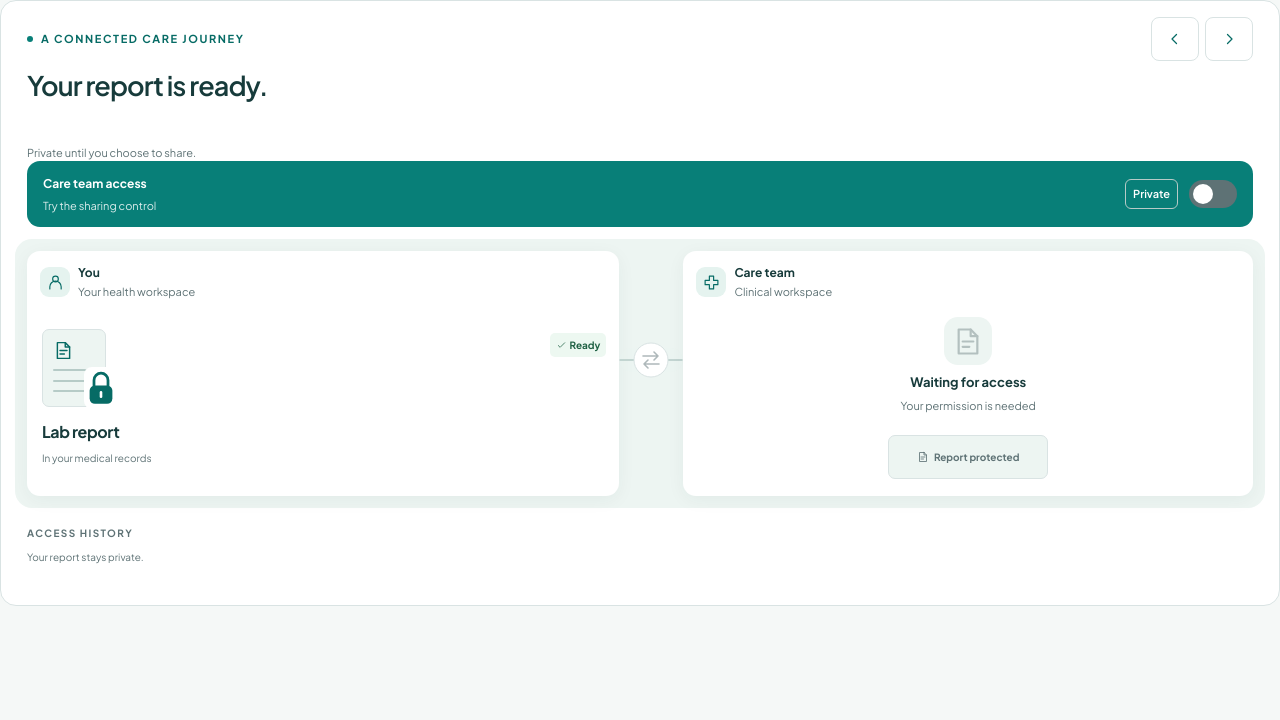
visitors can take control and revoke access before a report is viewed
The width and height of the screenshot is (1280, 720).
Click the switch named "Allow care team access".
click(1213, 194)  # box [1189,172,1237,216]
Wait 20000 ms
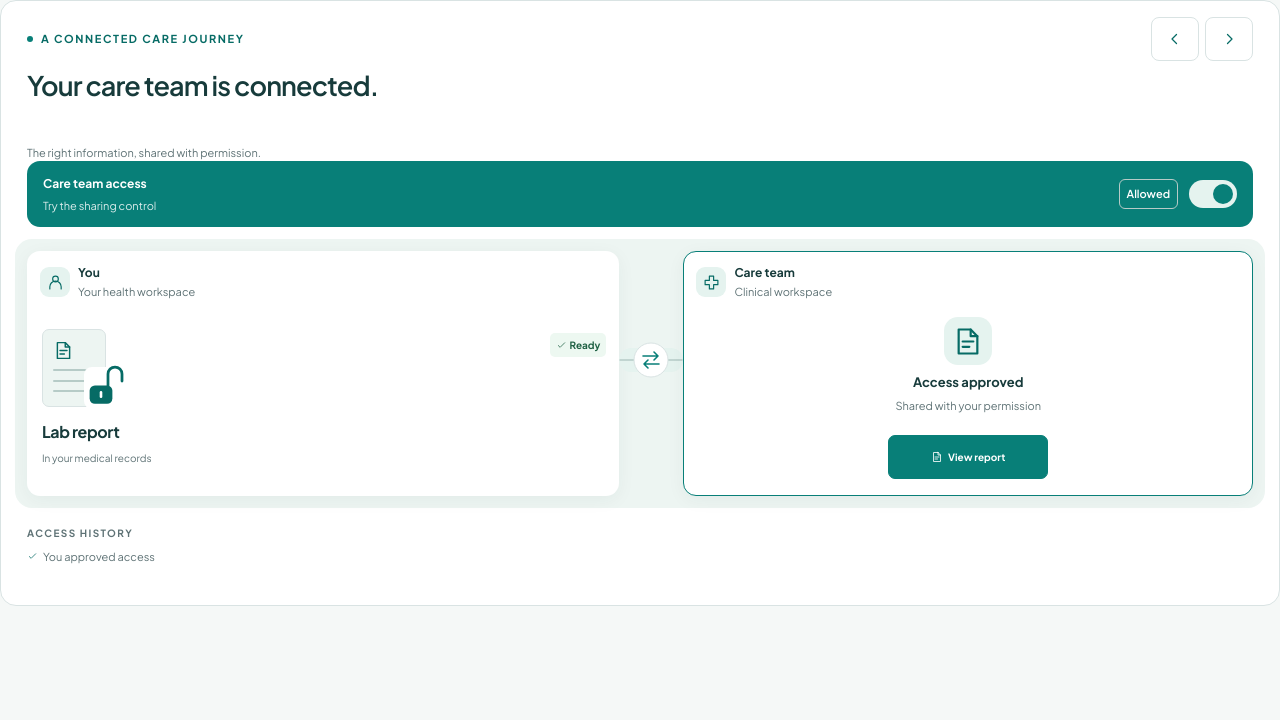
Check: the element named "See how Medicare sharing works" has attribute data-manual="true"
Check: the element named "See how Medicare sharing works" has attribute data-running="false"
Click the switch named "Allow care team access".
click(1213, 194)  # box [1189,172,1237,216]
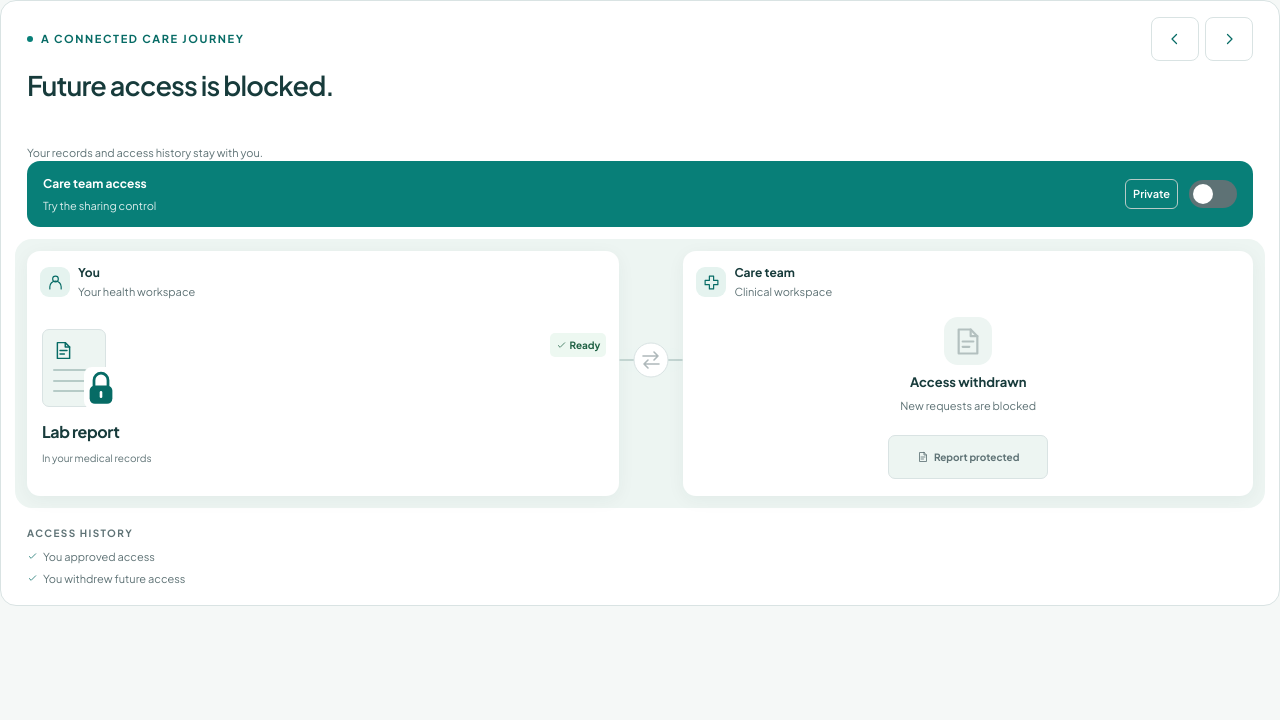
Check: the button "Report protected" is disabled, box [888,435,1048,479]
